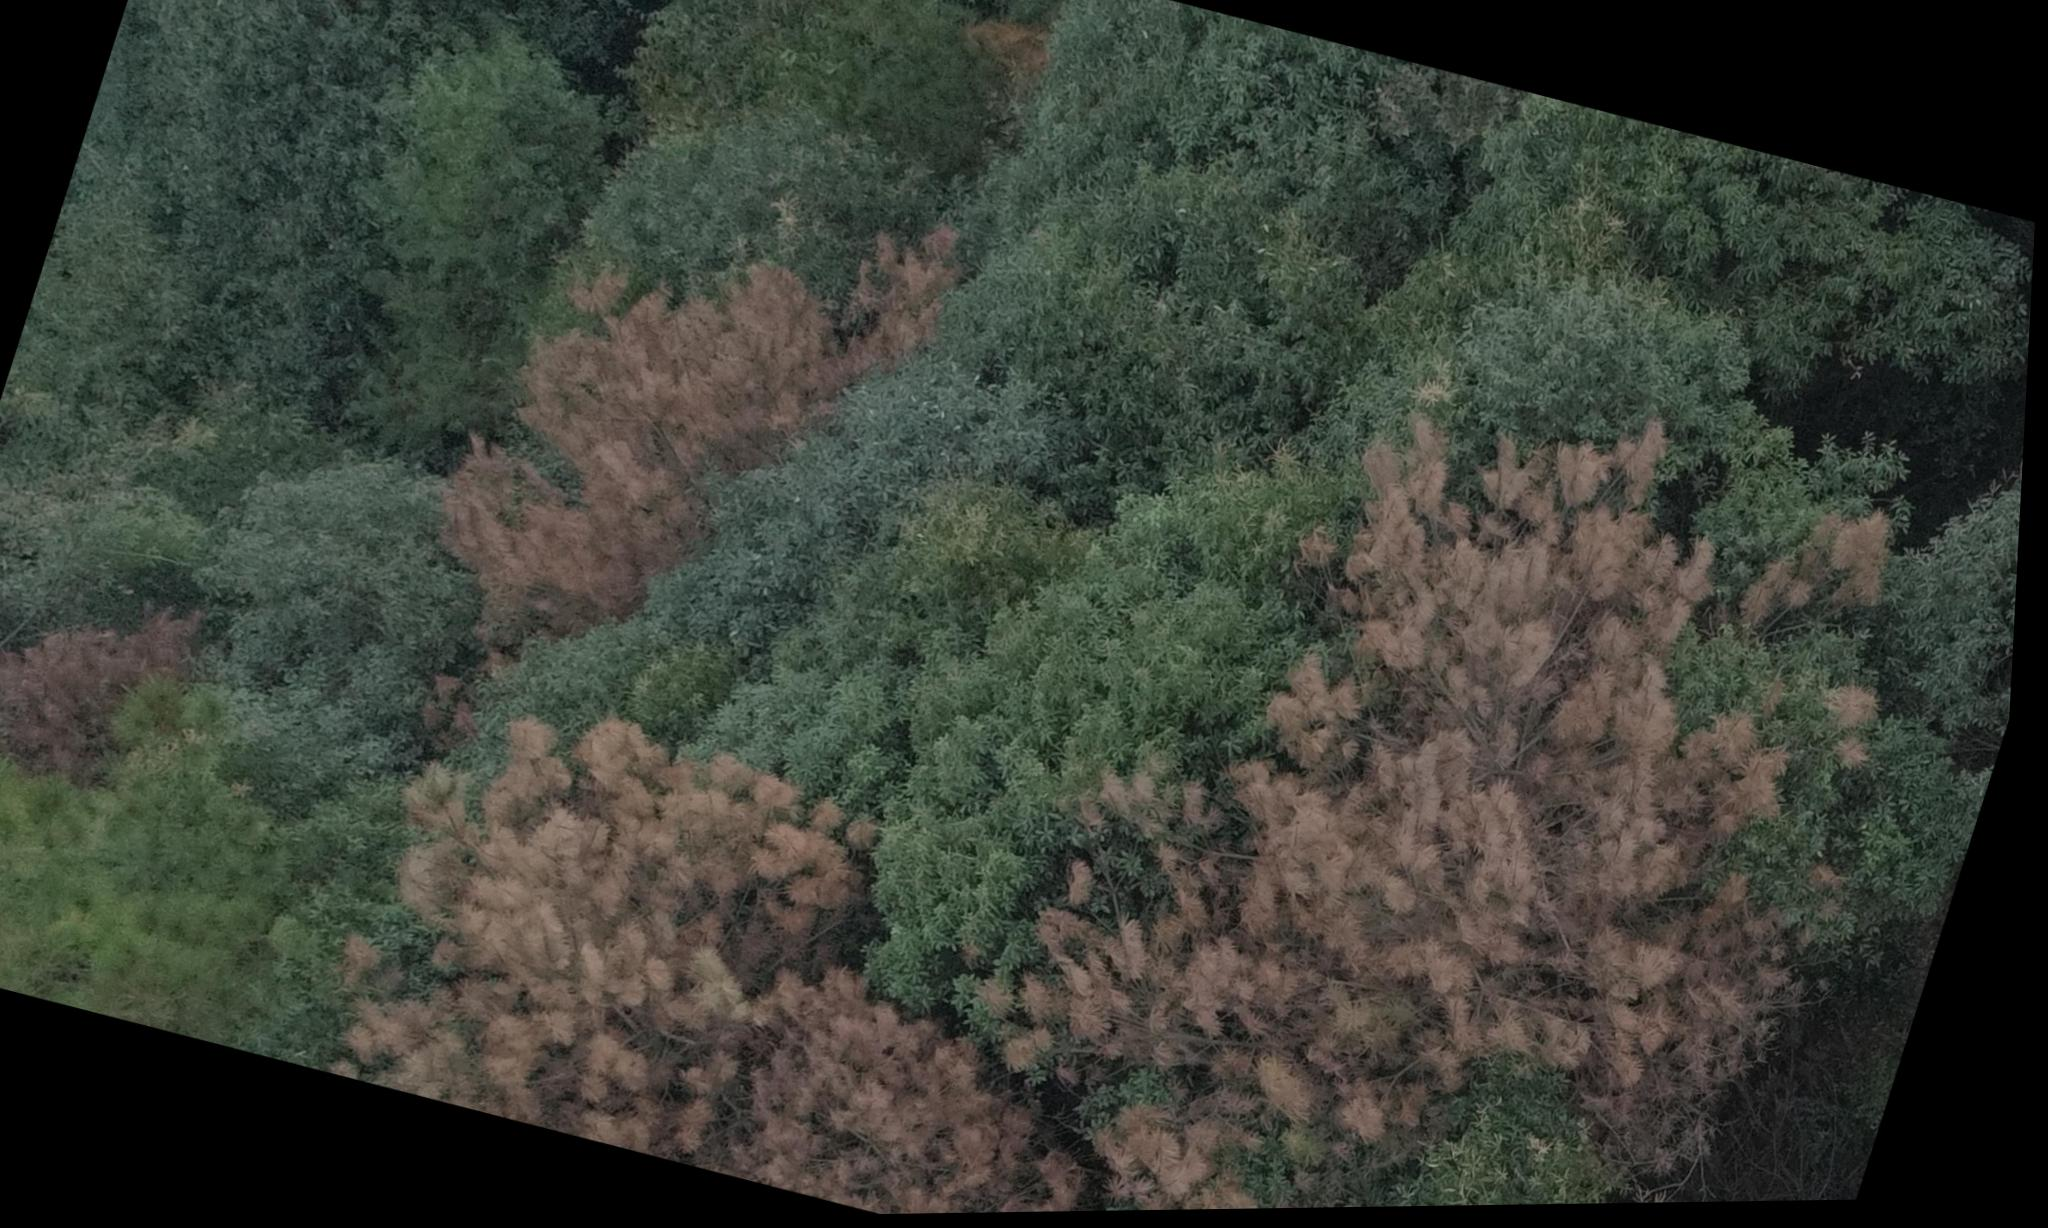heavy: (1001, 342, 1921, 1216), (326, 668, 927, 1199), (447, 151, 957, 691), (737, 971, 1134, 1219)
